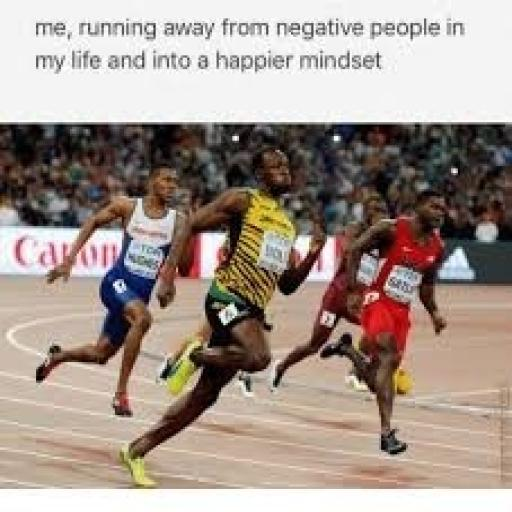running: (115, 143, 332, 489), (32, 161, 194, 422), (318, 201, 453, 459)
